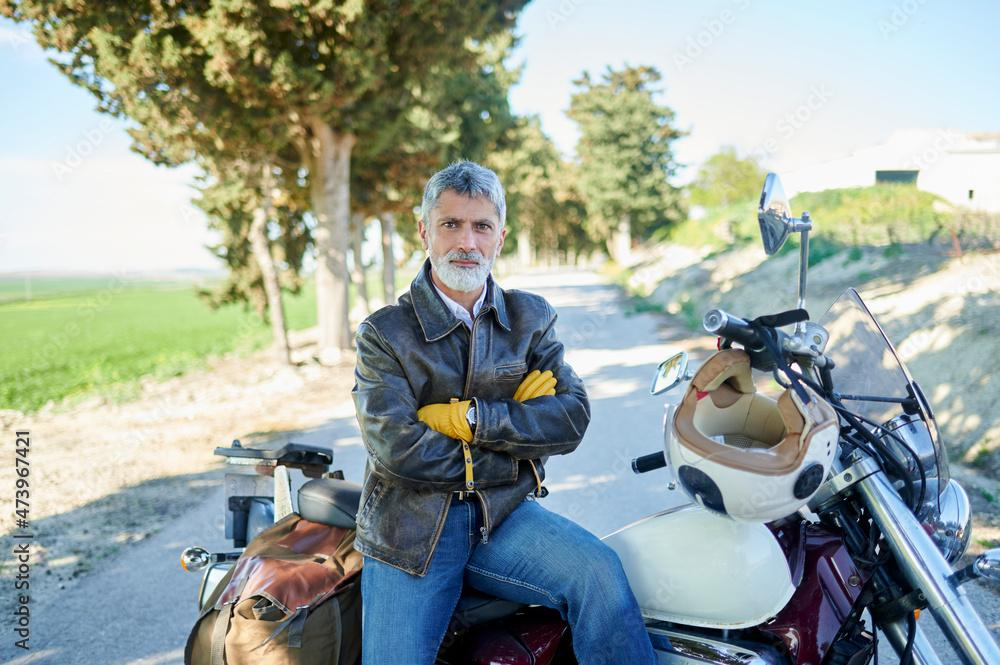helmet: (661, 346, 842, 525)
nohelmet: (416, 158, 508, 294)
